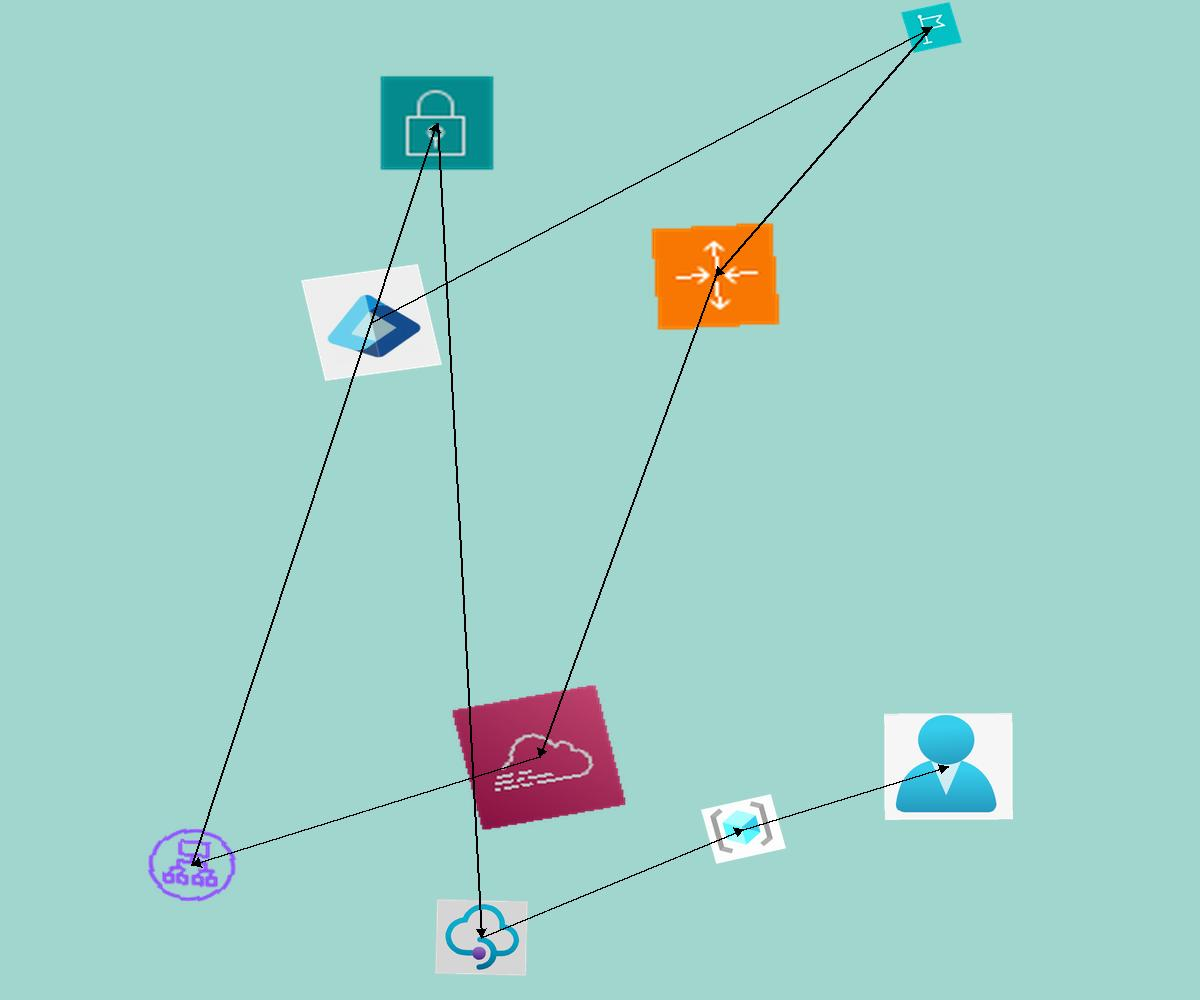AWS-CloudTrail: (451, 684, 627, 831)
AWS-Private-subnet: (378, 74, 496, 172)
AWS-Region: (901, 2, 962, 53)
AWS-Res_Elastic-Load-Balancing_Application-Load-Balancer: (139, 821, 245, 909)
AWS-Scaling-group: (649, 221, 782, 332)
Azure_api_gateway: (435, 899, 528, 976)
Azure_microsoft_entra: (301, 264, 442, 381)
Azure_resource_group: (701, 794, 786, 864)
Azure_users: (884, 713, 1013, 820)
